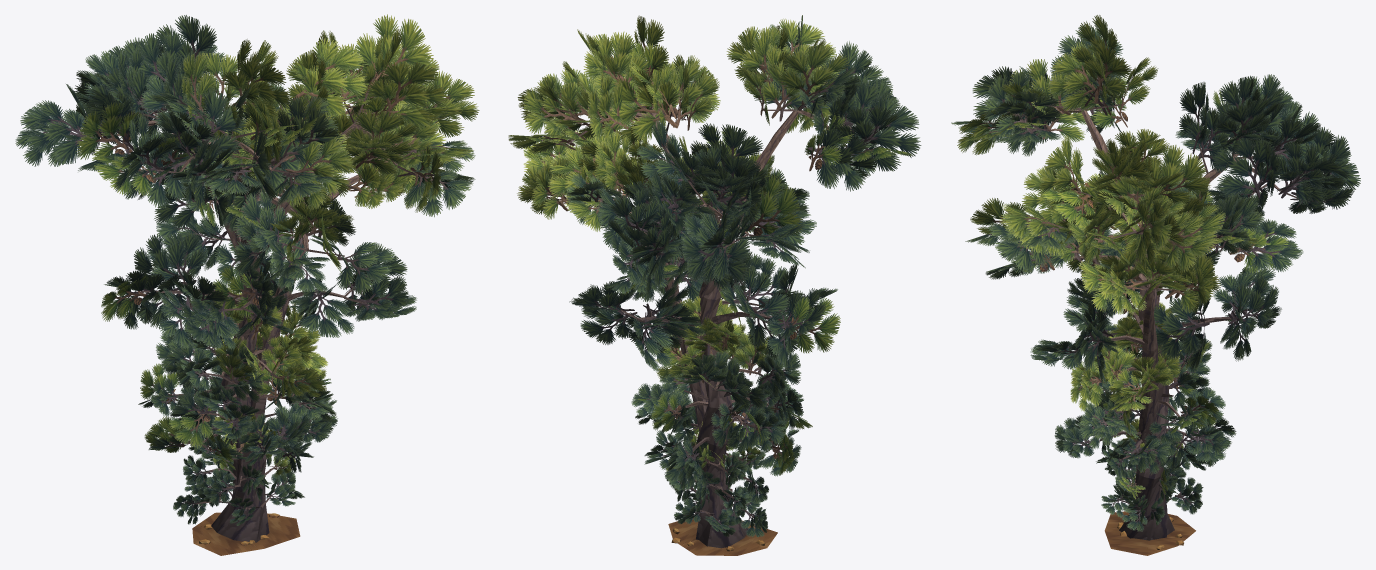
File: pinheiros.glb
3 renders of one model, left to right at view 1: azimuth 30°, elevation 25°; view 2: azimuth 150°, elevation 25°; view 3: azimuth 270°, elevation 25°, orthographic. The views are drawn at different scales.
Visible parts, largest first — view 1: Pinheiro4_Velho, Pinheiro3_Inclinado, Pinheiro2_Reto, Pinheiro1_Jovem; view 2: Pinheiro4_Velho, Pinheiro2_Reto, Pinheiro3_Inclinado, Pinheiro1_Jovem; view 3: Pinheiro4_Velho, Pinheiro3_Inclinado, Pinheiro2_Reto, Pinheiro1_Jovem.
Boxes of the visible parts, x1,y1,x2,y2 form: Pinheiro4_Velho: (15, 14, 479, 555); Pinheiro3_Inclinado: (146, 82, 456, 545); Pinheiro2_Reto: (138, 272, 337, 539); Pinheiro1_Jovem: (173, 409, 304, 525); Pinheiro4_Velho: (508, 15, 921, 555); Pinheiro2_Reto: (631, 296, 812, 491); Pinheiro3_Inclinado: (517, 124, 818, 551); Pinheiro1_Jovem: (665, 419, 768, 537); Pinheiro4_Velho: (951, 15, 1360, 555); Pinheiro3_Inclinado: (985, 155, 1303, 529); Pinheiro2_Reto: (1054, 302, 1236, 536); Pinheiro1_Jovem: (1101, 418, 1203, 531).
Size of the model in its own units: 10.55 by 13.92 by 10.63.
Materials: 2 (2 with a texture image).
